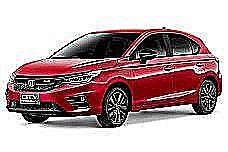Car hood: (13, 56, 118, 79)
Fender - -F-L-: (99, 53, 136, 111)
Fender - -R-L-: (202, 58, 220, 93)
Front bumper: (4, 77, 105, 118)
Headlight - -L-: (58, 69, 101, 87)
Headlight - -R-: (6, 70, 19, 88)
Passenger-s door - -F-L-: (136, 30, 175, 105)
Passenger-s door - -R-L-: (169, 31, 207, 105)
Rear bumper: (215, 76, 226, 100)
Rear light - -L-: (212, 54, 225, 67)
Side bumper - -L-: (129, 95, 200, 113)
Side mirror - -L-: (135, 44, 161, 68)
